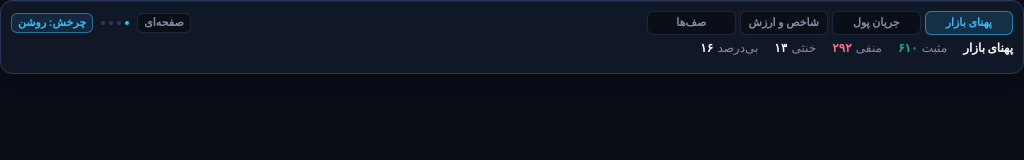
Scenario: نوارِ خلاصۀ چرخشی › کلیدِ توقف رویِ نوار هم کار می‌کند (همان تنظیمِ مشترک)
Click the button with test id "ticker-rotate-toggle": (52, 23) [11, 13, 93, 33]
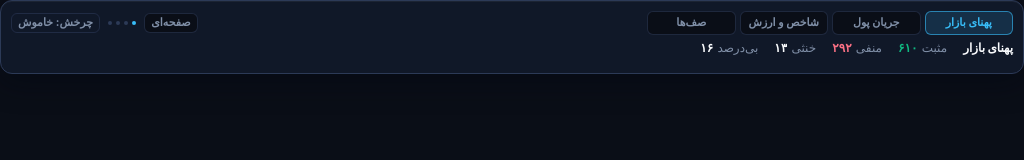
Check: the button with test id "ticker-rotate-toggle" shows "خاموش", box [11, 13, 100, 33]
